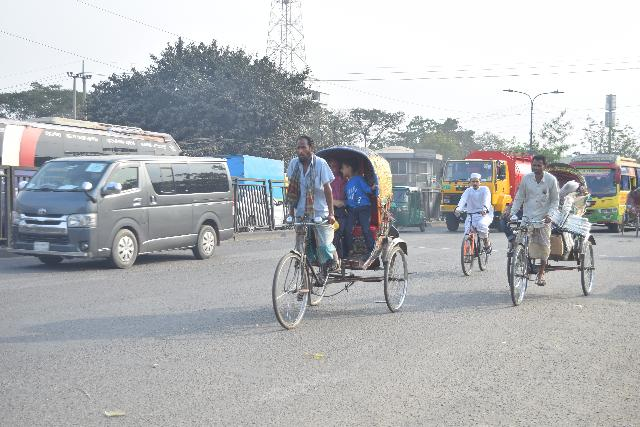bus: (569, 149, 639, 231)
truck: (434, 143, 528, 229)
van: (15, 147, 236, 273)
